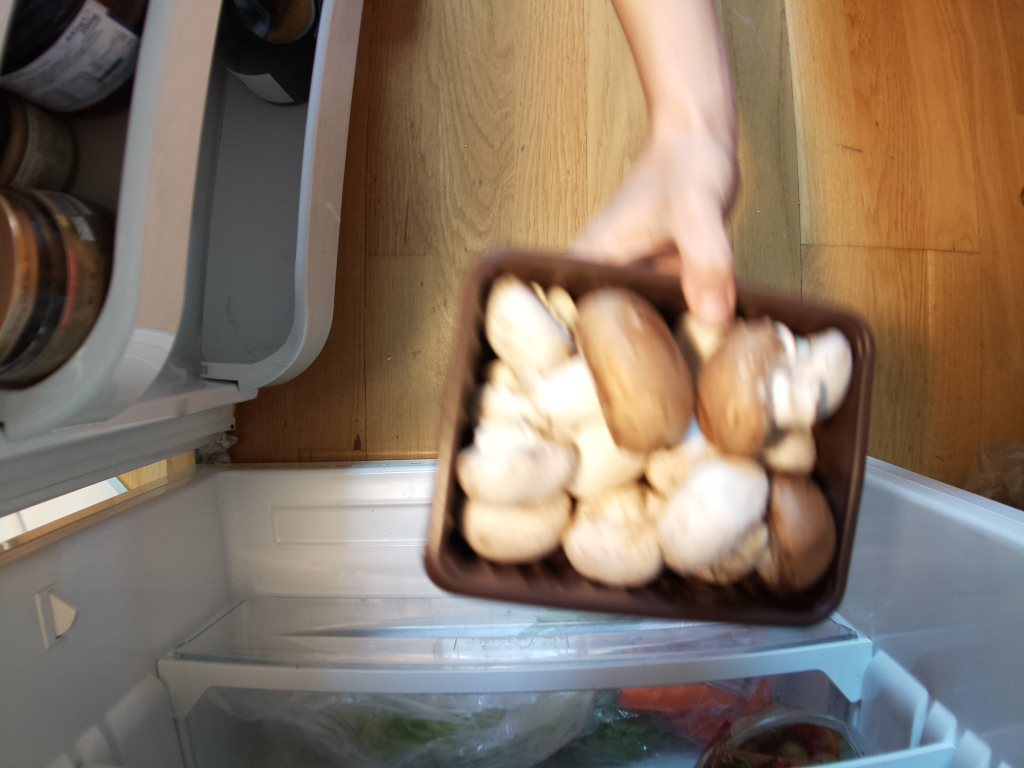mushrooms: (422, 246, 878, 642)
